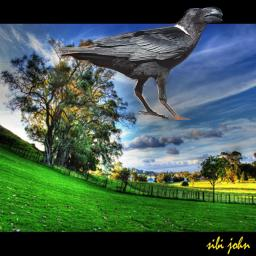Crow: (53, 5, 223, 120)
